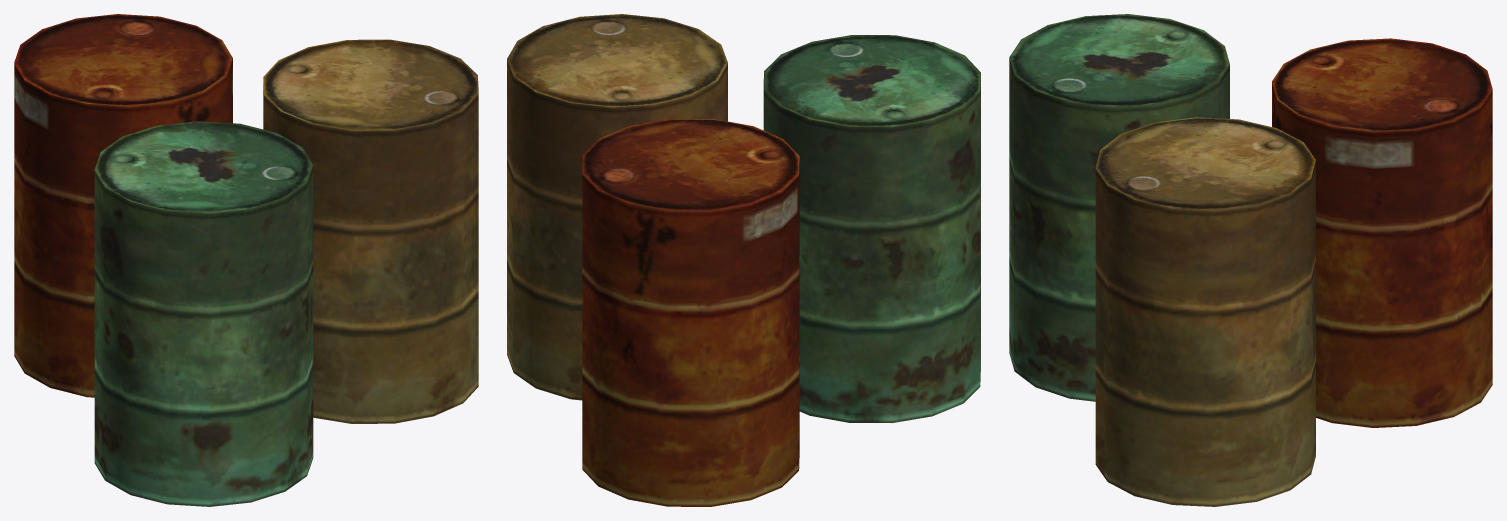
File: od_group_of_three_upright_3.fbx
The picture shows the model from 3 angles, left to right: view 1: azimuth 30°, elevation 25°; view 2: azimuth 150°, elevation 25°; view 3: azimuth 270°, elevation 25°; orthographic projection.
Parts seen in each view (by area): view 1: mesh_1, mesh_0, mesh_2; view 2: mesh_2, mesh_1, mesh_0; view 3: mesh_0, mesh_2, mesh_1.
Boxes of the visible parts, left/top/right/bottom form: mesh_1: left=94, top=121, right=313, bottom=506; mesh_0: left=263, top=39, right=478, bottom=423; mesh_2: left=14, top=14, right=232, bottom=397; mesh_2: left=582, top=118, right=799, bottom=506; mesh_1: left=763, top=35, right=980, bottom=422; mesh_0: left=507, top=14, right=727, bottom=400; mesh_0: left=1095, top=117, right=1315, bottom=506; mesh_2: left=1272, top=38, right=1492, bottom=427; mesh_1: left=1009, top=14, right=1229, bottom=401.
Bounding box in the file's own units: 125 × 88.26 × 130.
Materials: 3 (3 with a texture image).
